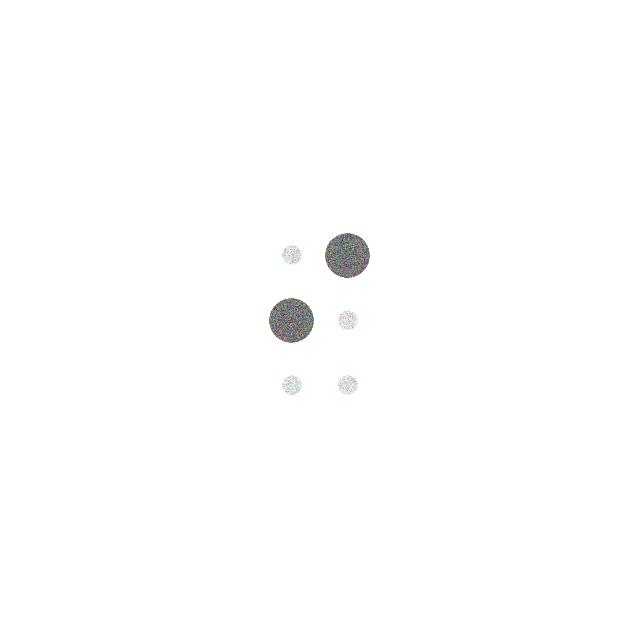I: (265, 229, 373, 414)
